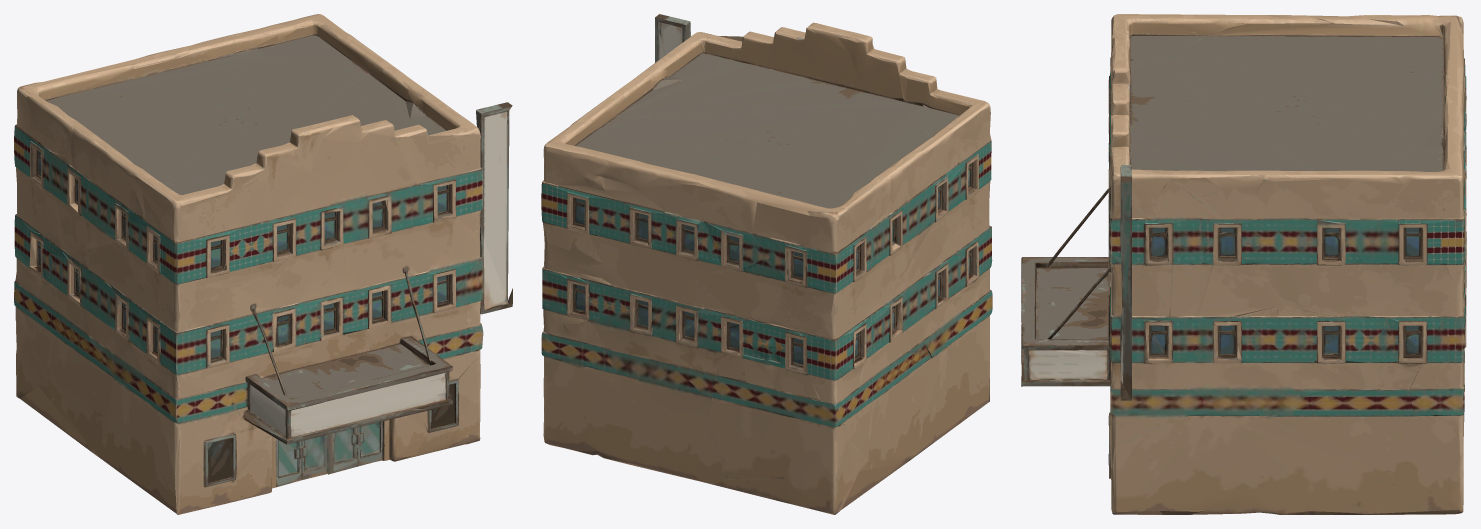
File: kimo.glb
3 renders of one model, left to right at view 1: azimuth 30°, elevation 25°; view 2: azimuth 150°, elevation 25°; view 3: azimuth 270°, elevation 25°, orthographic. The views are drawn at different scales.
Visible parts, largest first — view 1: placed; view 2: placed; view 3: placed.
Boxes of the visible parts, x1=… form: placed: x1=14, y1=14, x2=512, y2=514; placed: x1=541, y1=14, x2=992, y2=514; placed: x1=1021, y1=14, x2=1466, y2=514.
Size of the model in its own units: 19.38 by 18.96 by 20.
1 material, 1 textured.
